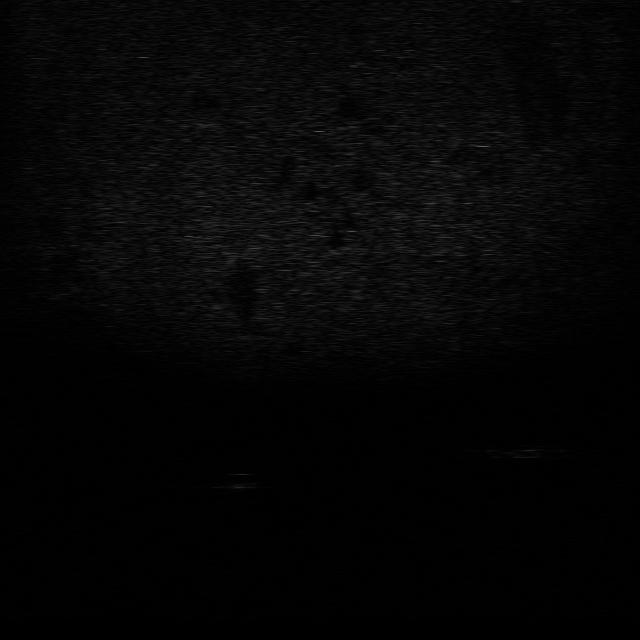ball: (216, 466, 266, 493)
human body: (482, 439, 572, 463)
